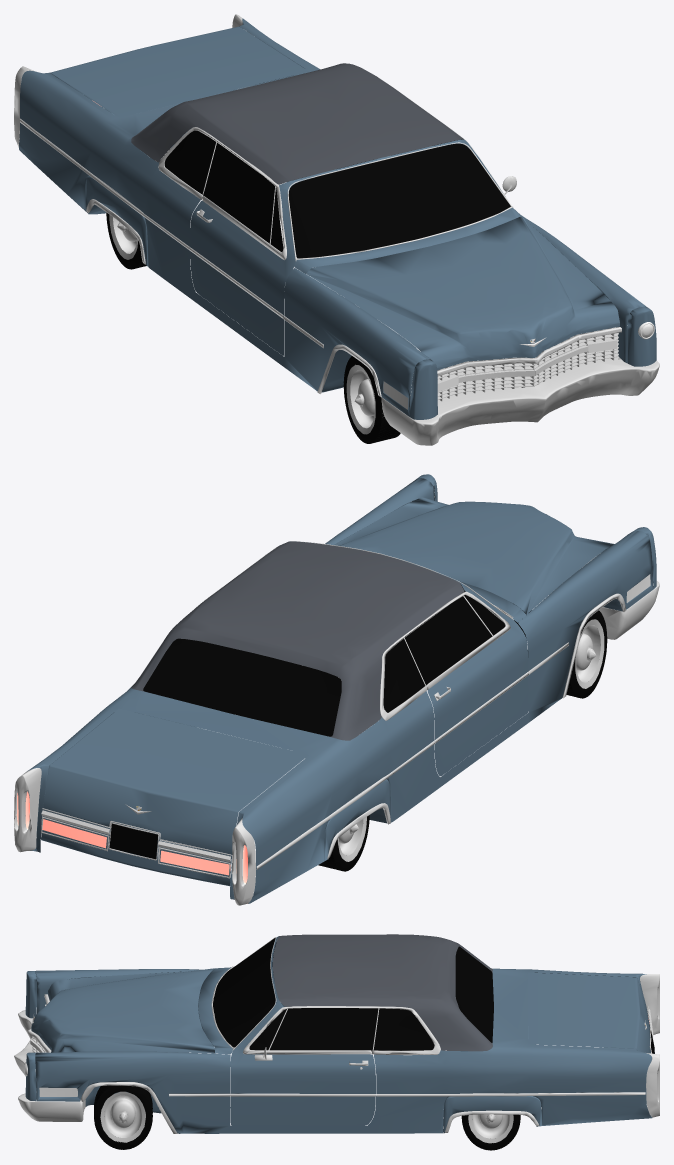
Rendered from road-cadillac-coupe-deville.glb.
3 renders of one model, top to bottom at view 1: azimuth 30°, elevation 25°; view 2: azimuth 150°, elevation 25°; view 3: azimuth 270°, elevation 25°, orthographic. The views are drawn at different scales.
Parts seen in each view (by area): view 1: Object_12, Object_26, Object_13, Object_4, front-left-spin, rear-left-spin, Object_17; view 2: Object_12, Object_13, Object_26, Object_4, front-left-spin, Object_16, rear-left-spin, Object_28; view 3: Object_12, Object_13, Object_26, Object_4, front-right-spin, rear-right-spin, Object_17.
Boxes of the visible parts, box(x1,y1,x2,y2) form: Object_12: box(19, 18, 656, 419); Object_26: box(164, 130, 510, 258); Object_13: box(131, 63, 463, 184); Object_4: box(14, 14, 659, 445); front-left-spin: box(343, 356, 400, 443); rear-left-spin: box(106, 212, 146, 269); Object_17: box(383, 340, 617, 409); Object_12: box(25, 474, 656, 903); Object_13: box(131, 541, 464, 740); Object_26: box(143, 585, 507, 736); Object_4: box(14, 514, 659, 905); front-left-spin: box(566, 610, 607, 698); Object_16: box(16, 791, 247, 903); rear-left-spin: box(318, 815, 369, 871); Object_28: box(109, 604, 531, 859); Object_12: box(25, 936, 654, 1133); Object_13: box(273, 934, 492, 1051); Object_26: box(213, 938, 493, 1053); Object_4: box(14, 937, 659, 1133); front-right-spin: box(94, 1085, 152, 1149); rear-right-spin: box(461, 1114, 520, 1150); Object_17: box(39, 1005, 77, 1096).
Size of the model in its own units: 2.03 by 1.42 by 5.7.
